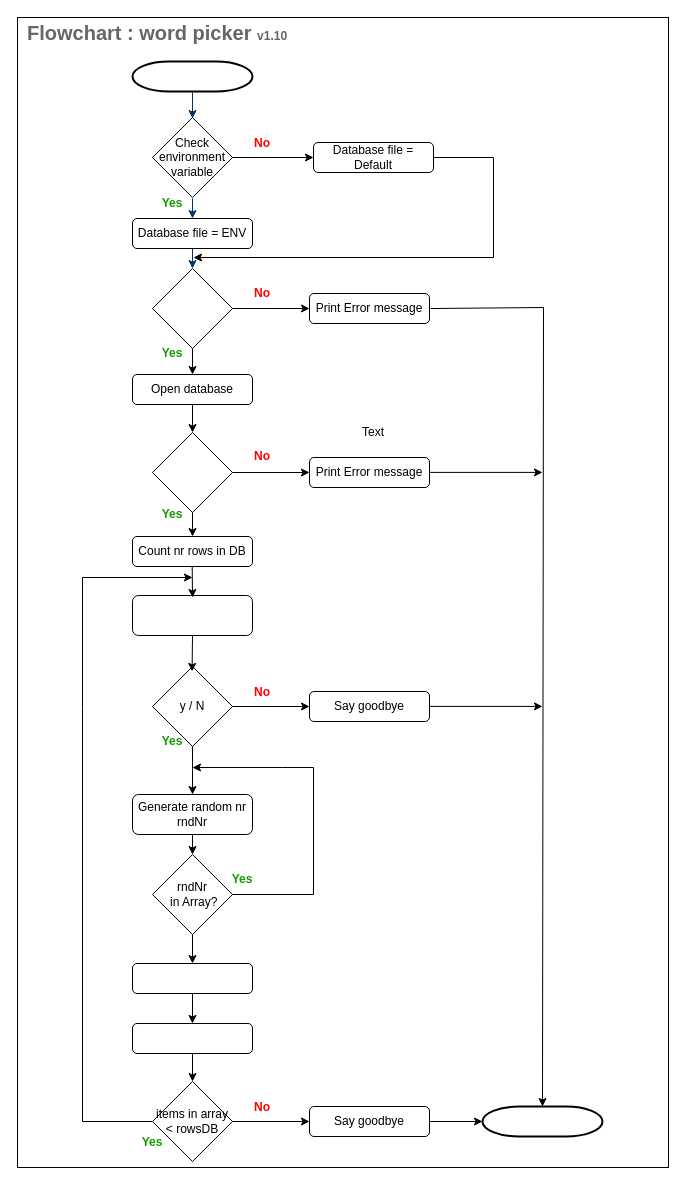
The diagram is 686 pixels wide and 1185 high, and some of its shapes have lost their labels. The centre of each missing label's shape, as x and y in pixels:
"Add to Array" belongs at (x=192, y=978).
"Ask user if they want a word" belongs at (x=192, y=615).
"Database file exists?" belongs at (x=192, y=308).
"End" belongs at (x=542, y=1121).
"Open successfull?" belongs at (x=192, y=472).
"Select rndNr from DB" belongs at (x=192, y=1038).
"start" belongs at (x=192, y=76).
